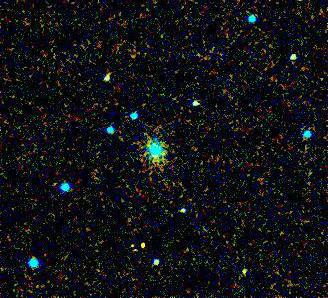star: (231, 258, 261, 288)
